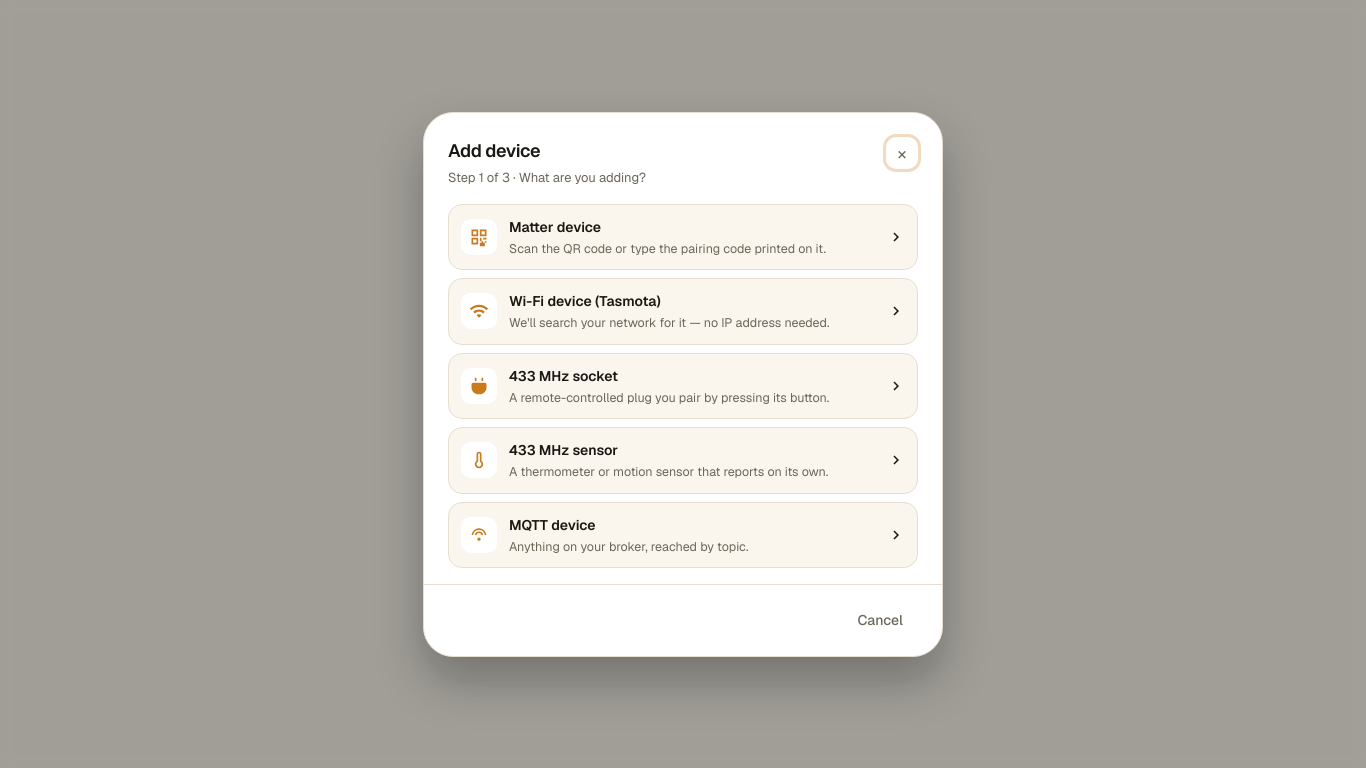
the add-device wizard's first question › walks to the discovery step when a method is chosen
The image size is (1366, 768).
Click the button "433 MHz socket". click: x=683, y=385
box: [448,352,918,418]
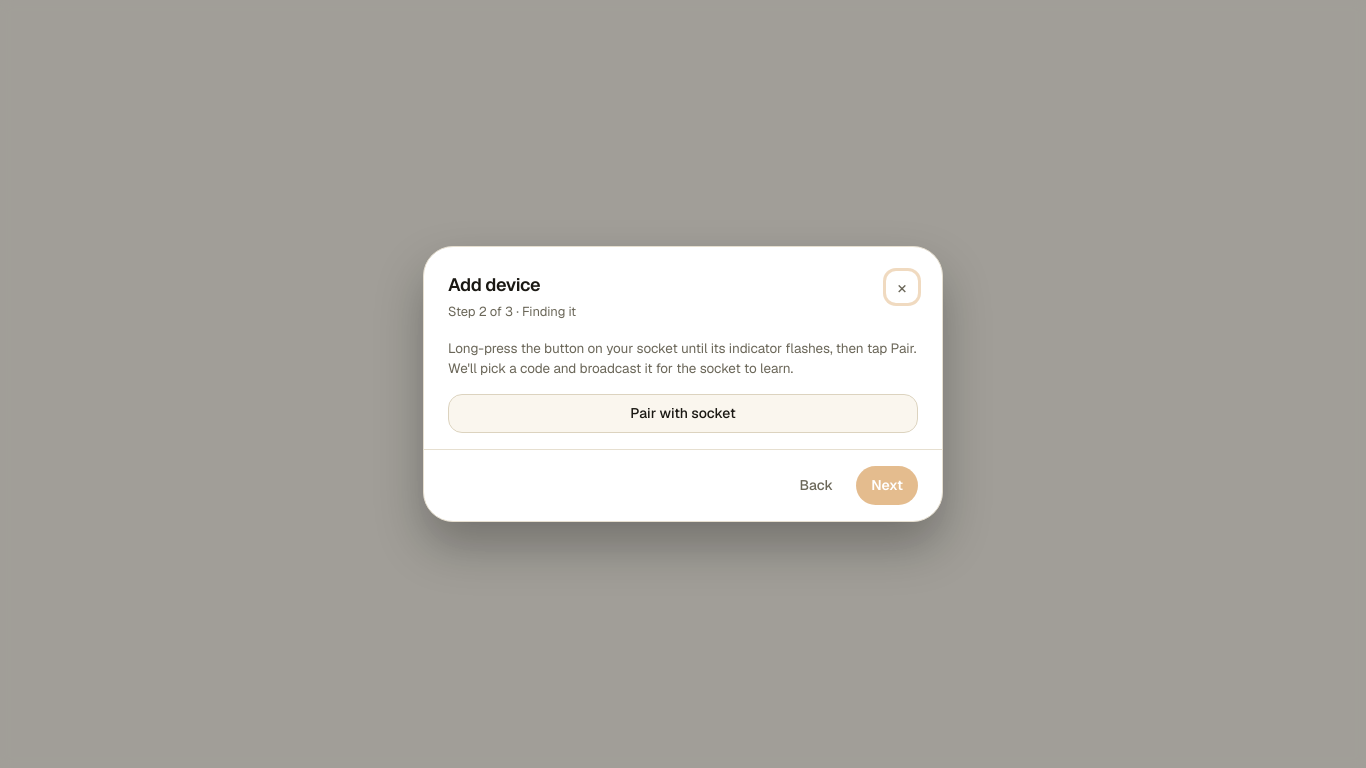
Now the text "Step 2 of 3 · Finding it" is shown, box [448,302,576,322]
Now the button "Pair with socket" is shown, box [448,394,918,433]
